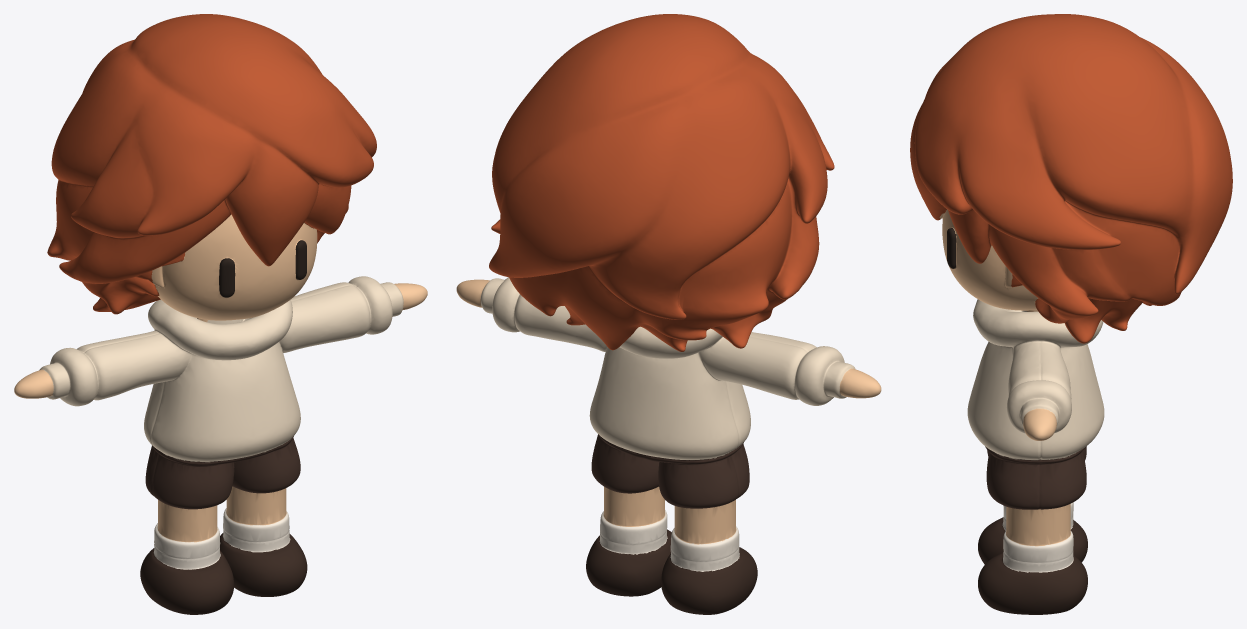
The picture shows the model from 3 angles, left to right: view 1: azimuth 30°, elevation 25°; view 2: azimuth 150°, elevation 25°; view 3: azimuth 270°, elevation 25°; orthographic projection. The views are drawn at different scales.
Parts seen in each view (by area): view 1: Original surface - copper clay materials; view 2: Original surface - copper clay materials; view 3: Original surface - copper clay materials.
Part boxes in pixels (x1,y1,x2,y2): Original surface - copper clay materials: (14,14,427,614); Original surface - copper clay materials: (456,14,881,614); Original surface - copper clay materials: (910,14,1232,614).
Bounding box in the file's own units: 1.49 × 1.9 × 0.9971.
